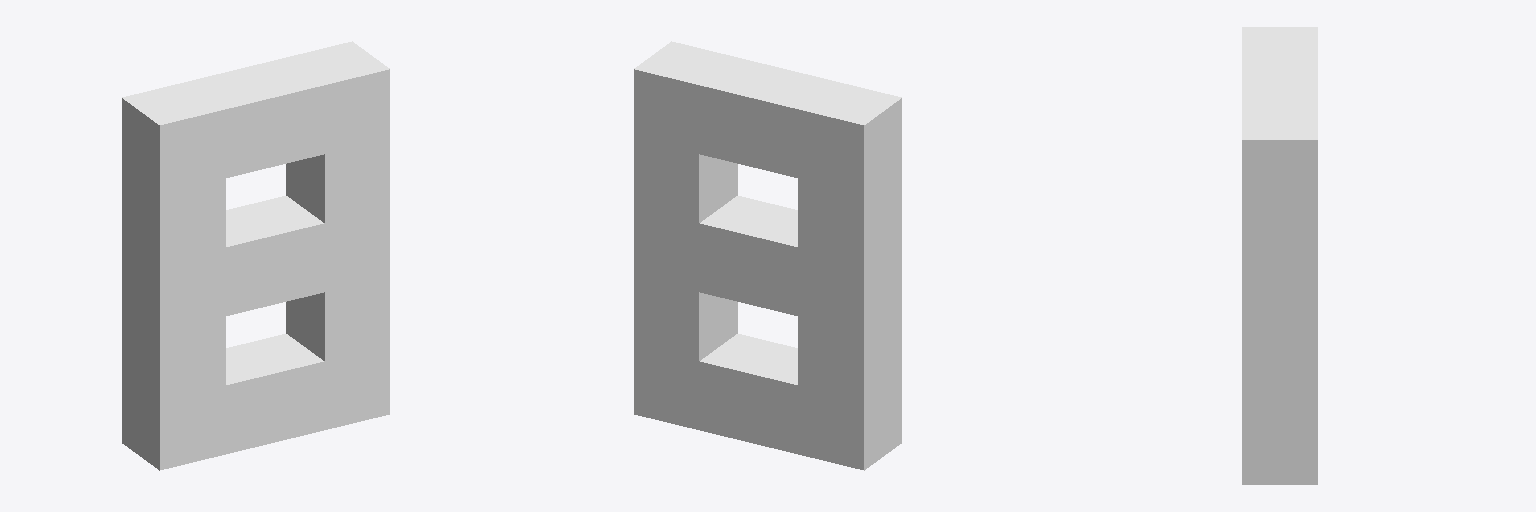
3 views of the same model, side by side, from view 1: azimuth 30°, elevation 25°; view 2: azimuth 150°, elevation 25°; view 3: azimuth 270°, elevation 25° (orthographic).
Parts seen in each view (by area): view 1: Matrix_9; view 2: Matrix_9; view 3: Matrix_9.
Boxes of the visible parts, x1,y1,x2,y2 form: Matrix_9: [122, 41, 389, 470]; Matrix_9: [634, 41, 901, 470]; Matrix_9: [1242, 27, 1317, 484].
Size of the model in its own units: 7 by 10 by 2.